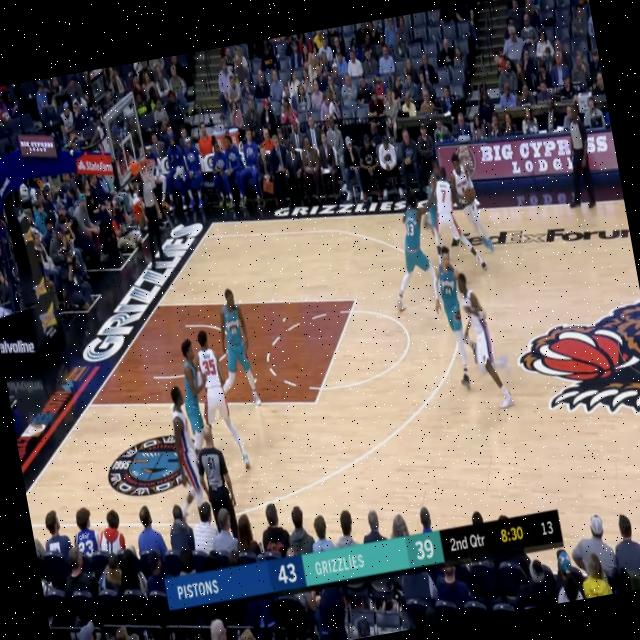no foul: (419, 240, 527, 425), (155, 330, 257, 484), (408, 156, 483, 271), (386, 181, 440, 322)
